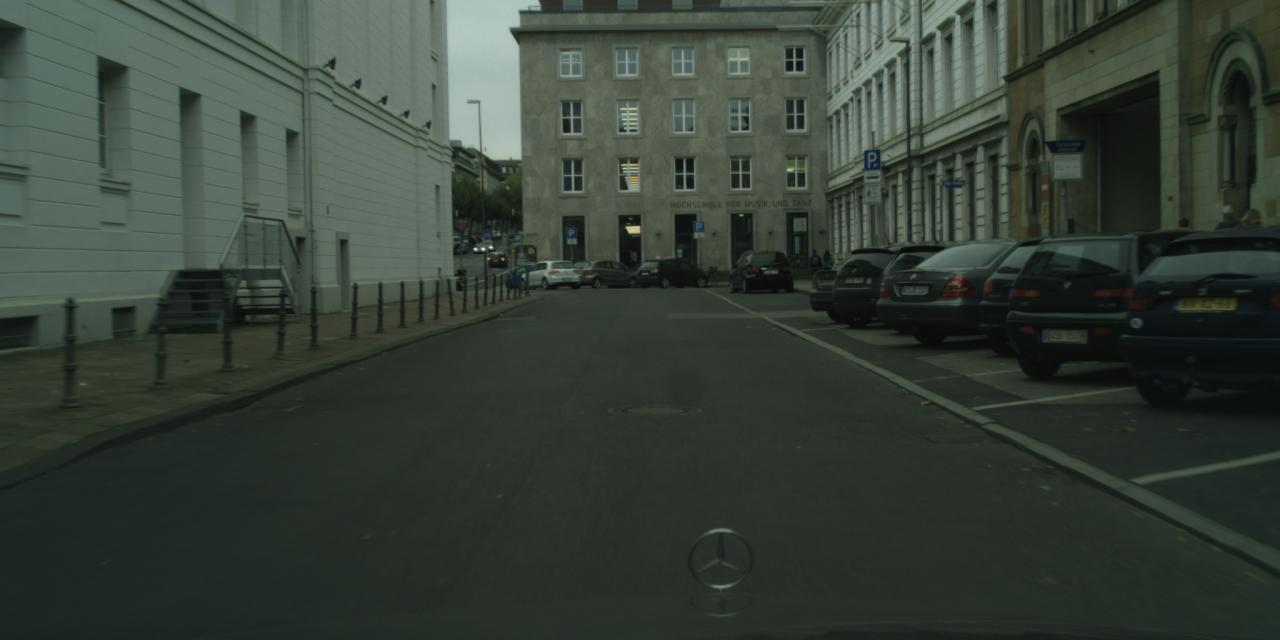ped: (1209, 205, 1243, 288), (1234, 208, 1268, 290), (1170, 218, 1198, 288), (808, 249, 822, 283), (820, 249, 833, 282)
